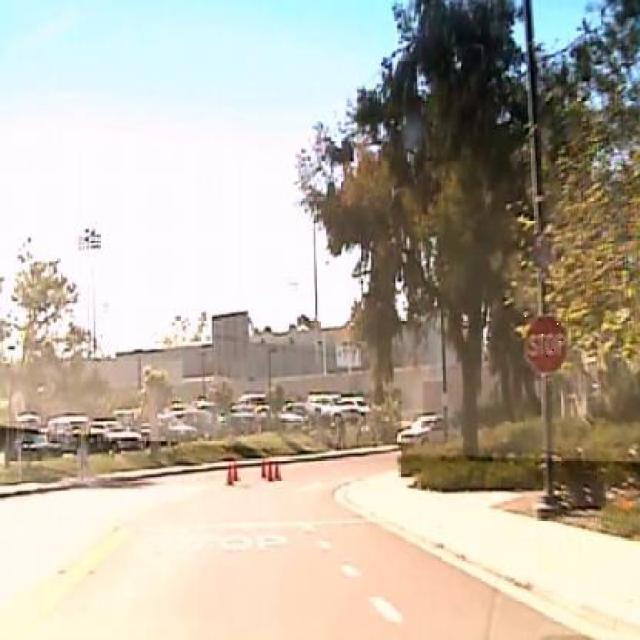stop: (524, 314, 568, 373)
